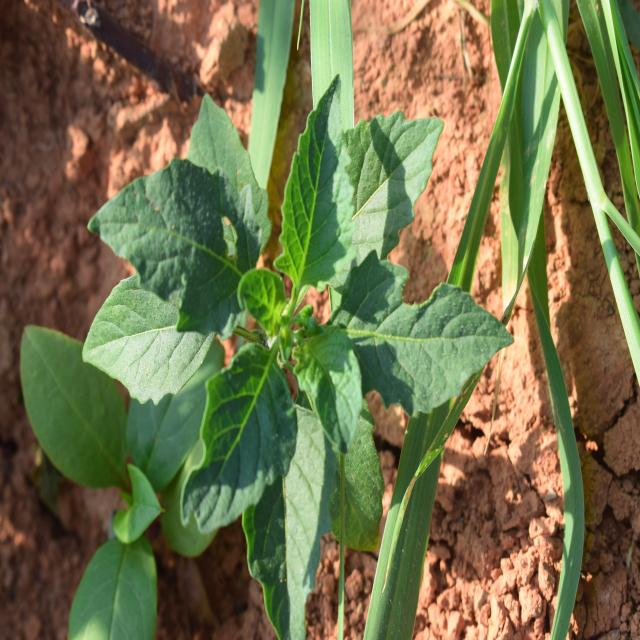Black_nightshade: (136, 102, 474, 564)
